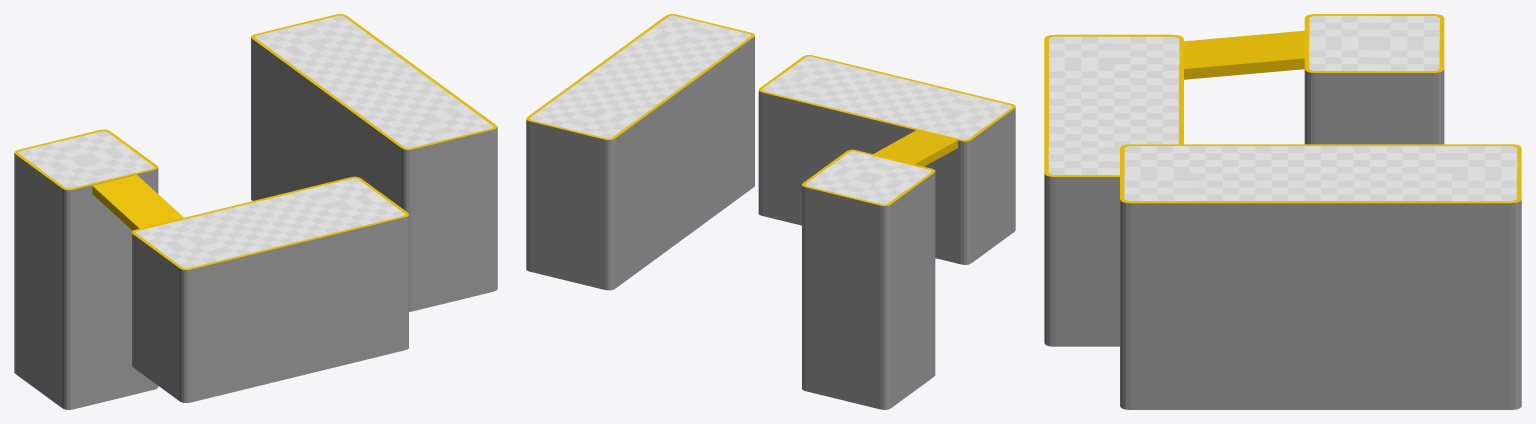
File: panels env.fbx
The picture shows the model from 3 angles, left to right: view 1: azimuth 30°, elevation 25°; view 2: azimuth 150°, elevation 25°; view 3: azimuth 270°, elevation 25°; orthographic projection. The views are drawn at different scales.
Visible parts, largest first — view 1: polySurface21, polySurface20, polySurface6, polySurface25, polySurface17, polySurface2, polySurface16, polySurface9, polySurface3, polySurface26, polySurface4, polySurface10 (+15 smaller); view 2: polySurface3, polySurface4, polySurface19, polySurface27, polySurface24, polySurface22, polySurface21, polySurface5, polySurface15, polySurface8, polySurface10, polySurface6 (+15 smaller); view 3: polySurface25, polySurface24, polySurface14, polySurface11, polySurface7, polySurface12, polySurface17, polySurface19, polySurface26, polySurface23, polySurface27, polySurface20 (+15 smaller).
Boxes of the visible parts, x1,y1,x2,y2 form: polySurface21: [39, 160, 113, 409]; polySurface20: [156, 239, 230, 402]; polySurface6: [378, 119, 452, 311]; polySurface25: [426, 108, 497, 301]; polySurface17: [337, 195, 408, 359]; polySurface2: [204, 229, 275, 392]; polySurface16: [293, 207, 364, 370]; polySurface9: [248, 218, 319, 381]; polySurface3: [14, 140, 85, 390]; polySurface26: [87, 148, 158, 399]; polySurface4: [251, 24, 322, 200]; polySurface10: [275, 44, 347, 195]; polySurface3: [843, 178, 912, 409]; polySurface4: [567, 112, 636, 290]; polySurface19: [802, 167, 867, 400]; polySurface27: [924, 113, 992, 264]; polySurface24: [526, 101, 592, 280]; polySurface22: [758, 72, 824, 224]; polySurface21: [869, 159, 935, 391]; polySurface5: [641, 59, 708, 237]; polySurface15: [617, 77, 684, 254]; polySurface8: [664, 42, 731, 220]; polySurface10: [593, 94, 660, 272]; polySurface6: [688, 23, 754, 202]; polySurface25: [1120, 173, 1189, 409]; polySurface24: [1452, 173, 1521, 409]; polySurface14: [1189, 173, 1255, 409]; polySurface11: [1320, 173, 1386, 409]; polySurface7: [1386, 173, 1451, 409]; polySurface12: [1255, 173, 1320, 409]; polySurface17: [1044, 147, 1113, 346]; polySurface19: [1374, 43, 1444, 144]; polySurface26: [1304, 43, 1374, 144]; polySurface23: [1183, 30, 1304, 79]; polySurface27: [1114, 34, 1183, 64]; polySurface20: [1044, 34, 1113, 64].
Bounding box in the file's own units: 3243 × 2124 × 2906.
2 materials, 1 textured.
